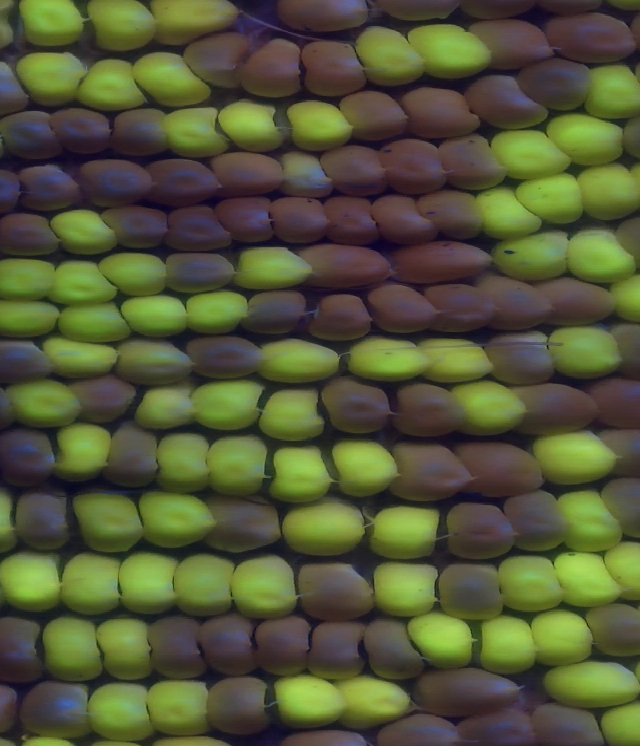fluorescent: (275, 499, 367, 557), (134, 486, 217, 550), (537, 662, 640, 713), (224, 558, 303, 623), (70, 491, 148, 556), (525, 434, 619, 487), (130, 50, 213, 110), (365, 558, 444, 621), (202, 433, 276, 500), (79, 1, 164, 58), (448, 382, 530, 441), (364, 498, 440, 561), (406, 26, 496, 78), (405, 609, 477, 674), (546, 110, 631, 165), (262, 442, 337, 504), (328, 676, 414, 730), (355, 26, 432, 86), (82, 682, 159, 742), (557, 490, 630, 553), (55, 550, 123, 617), (495, 555, 569, 616), (0, 545, 63, 616), (343, 336, 432, 386), (72, 57, 151, 113), (51, 422, 117, 489), (44, 614, 108, 683), (169, 553, 240, 615), (12, 50, 89, 107), (489, 231, 576, 281), (511, 175, 593, 228), (255, 391, 334, 446), (574, 159, 640, 224), (268, 675, 347, 729), (540, 328, 625, 377), (473, 613, 540, 675), (328, 439, 396, 500), (255, 338, 345, 384), (564, 231, 640, 285), (552, 550, 622, 608), (91, 619, 156, 681), (489, 127, 571, 176), (155, 1, 245, 45), (476, 186, 545, 242), (118, 551, 181, 612), (9, 1, 87, 50), (416, 339, 497, 386), (215, 101, 286, 154), (528, 609, 592, 667), (49, 208, 121, 258), (193, 384, 268, 432), (582, 61, 640, 123), (230, 245, 313, 288), (115, 294, 192, 340), (146, 679, 211, 733), (282, 100, 355, 146), (50, 259, 124, 304), (53, 301, 134, 342), (161, 109, 229, 156), (100, 251, 168, 298), (153, 433, 211, 488), (10, 383, 81, 426), (0, 292, 63, 339), (184, 291, 254, 331), (44, 341, 119, 377), (0, 254, 62, 297), (134, 384, 196, 427), (601, 539, 640, 605), (601, 701, 640, 746)
nonfluorescent: (405, 668, 533, 714), (196, 492, 284, 555), (461, 70, 549, 132), (505, 379, 604, 434), (454, 439, 544, 499), (137, 617, 214, 686), (18, 681, 98, 746), (397, 78, 482, 139), (440, 499, 520, 563), (385, 443, 479, 497), (359, 615, 428, 687), (515, 56, 599, 115), (294, 242, 391, 292), (175, 33, 260, 90), (300, 36, 374, 100), (478, 274, 559, 332), (378, 240, 492, 280), (436, 131, 508, 194), (390, 381, 465, 440), (362, 282, 441, 338), (537, 276, 622, 328), (470, 17, 558, 67), (295, 562, 376, 616), (321, 381, 395, 439), (379, 139, 452, 197), (318, 143, 393, 199), (439, 562, 507, 623), (0, 108, 75, 162), (78, 156, 159, 206), (417, 188, 493, 241), (239, 40, 305, 101), (304, 621, 373, 679), (417, 282, 497, 332), (197, 615, 262, 676), (101, 426, 161, 492), (264, 193, 332, 251), (484, 331, 557, 385), (541, 17, 636, 57), (144, 155, 223, 203), (12, 491, 73, 553), (99, 202, 173, 253), (212, 195, 283, 248), (336, 89, 414, 137), (18, 163, 90, 215), (210, 147, 289, 194), (314, 191, 384, 244), (0, 425, 57, 490), (237, 288, 312, 337), (155, 250, 238, 294), (206, 676, 271, 732), (44, 108, 118, 157), (252, 620, 316, 676), (165, 200, 235, 251), (302, 294, 376, 342), (509, 493, 565, 556), (531, 701, 609, 746), (269, 1, 384, 30), (594, 477, 640, 549), (362, 195, 435, 240), (181, 336, 265, 375), (373, 712, 471, 745), (0, 208, 60, 260), (454, 711, 542, 746), (70, 379, 136, 425), (583, 606, 640, 659), (0, 616, 45, 683), (0, 333, 59, 384), (109, 105, 173, 152), (587, 378, 640, 428), (597, 426, 640, 476), (0, 60, 35, 119), (609, 320, 640, 381), (283, 726, 370, 746)
